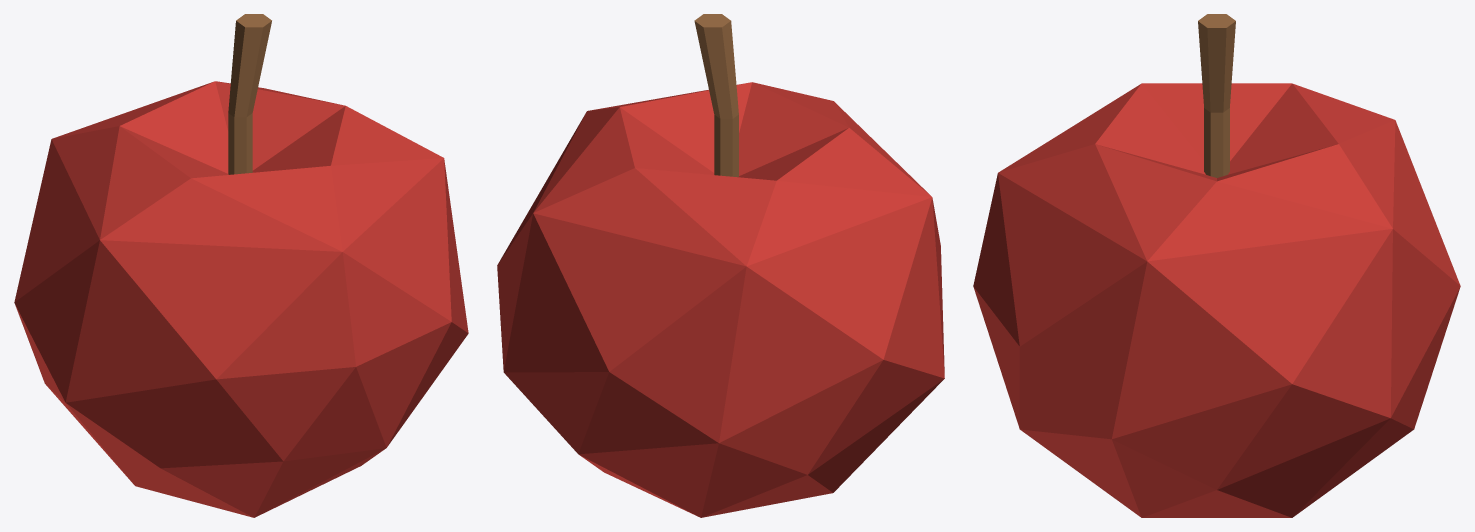
Rendered from SM_Food_Apple_02.fbx.
3 views of the same model, side by side, from view 1: azimuth 30°, elevation 25°; view 2: azimuth 150°, elevation 25°; view 3: azimuth 270°, elevation 25° (orthographic). The views are drawn at different scales.
Visible parts, largest first — view 1: SM_Food_Apple_02; view 2: SM_Food_Apple_02; view 3: SM_Food_Apple_02.
Part boxes in pixels (x1,y1,x2,y2): SM_Food_Apple_02: [14, 14, 468, 517]; SM_Food_Apple_02: [497, 14, 944, 517]; SM_Food_Apple_02: [973, 14, 1460, 517].
Bounding box in the file's own units: 0.112 × 0.1296 × 0.1164.
